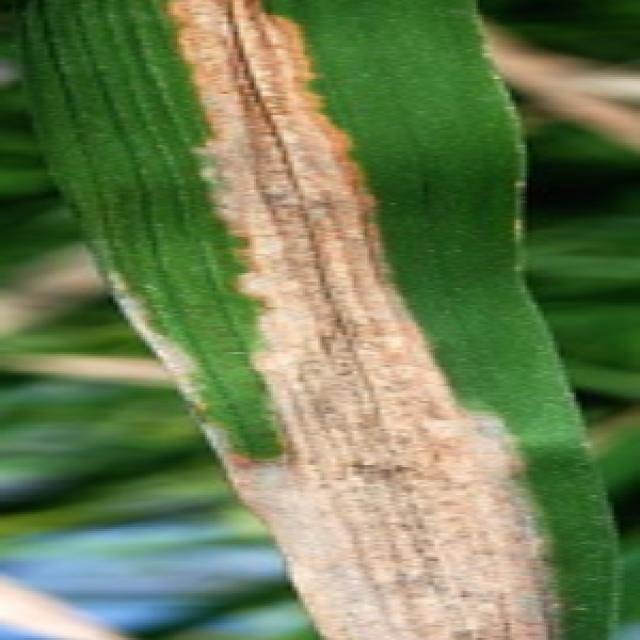Bacterial_Blight: (96, 0, 558, 640)
